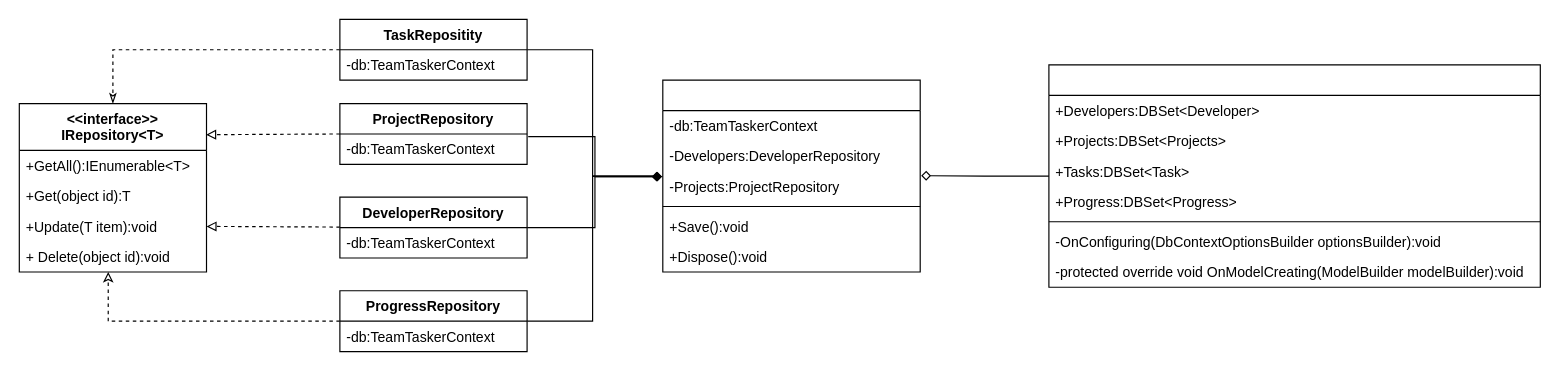
This 1560x371 diagram has some shape labels left out. The shapes that lost their labels are listed below. From the top down, each one's box as (x1, y1, x2, y2) in pixels, then its label:
(662, 79, 920, 272): UnityOfWorkClass
(1048, 64, 1540, 287): TeamTaskerContext
